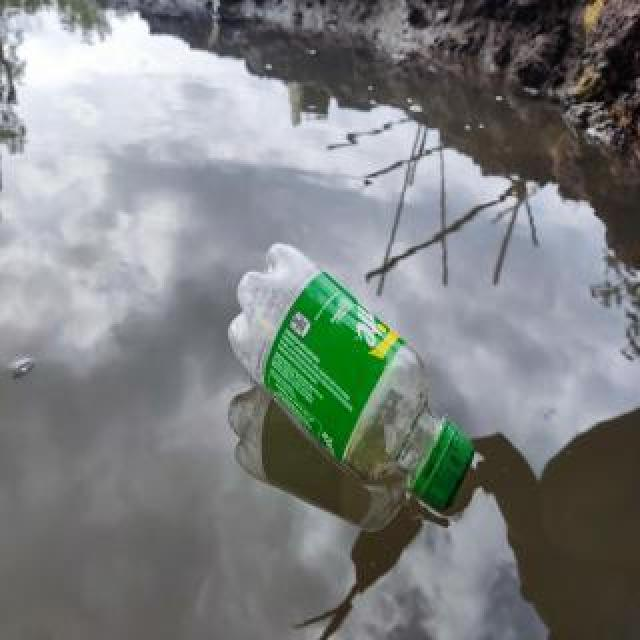bottle: (225, 239, 477, 517)
